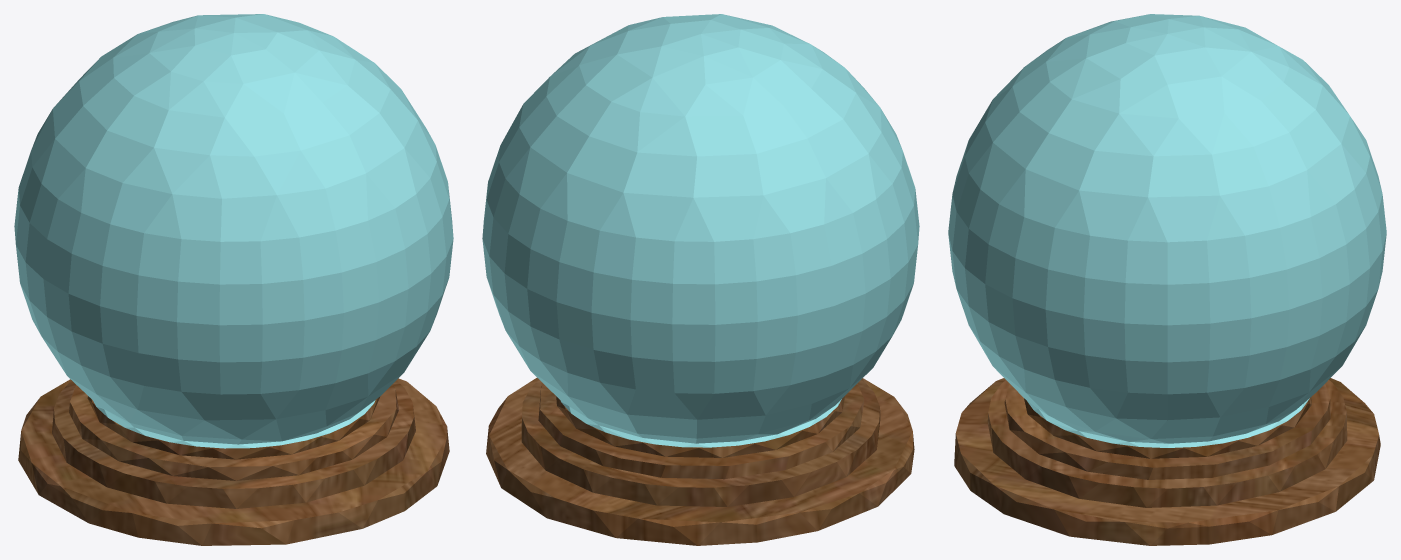
The model's file is snowGlobe.glb.
3 renders of one model, left to right at view 1: azimuth 30°, elevation 25°; view 2: azimuth 150°, elevation 25°; view 3: azimuth 270°, elevation 25°, orthographic.
Parts seen in each view (by area): view 1: snow_globe_dome, snow_globe_base; view 2: snow_globe_dome, snow_globe_base; view 3: snow_globe_dome, snow_globe_base.
Boxes of the visible parts, <box> form: snow_globe_dome: <box>14,14,453,448</box>; snow_globe_base: <box>18,378,449,545</box>; snow_globe_dome: <box>482,14,919,447</box>; snow_globe_base: <box>486,378,914,545</box>; snow_globe_dome: <box>948,14,1386,447</box>; snow_globe_base: <box>954,378,1380,545</box>.
Size of the model in its own units: 3.3 by 3.5 by 3.3.
Materials: 5 (1 with a texture image).
